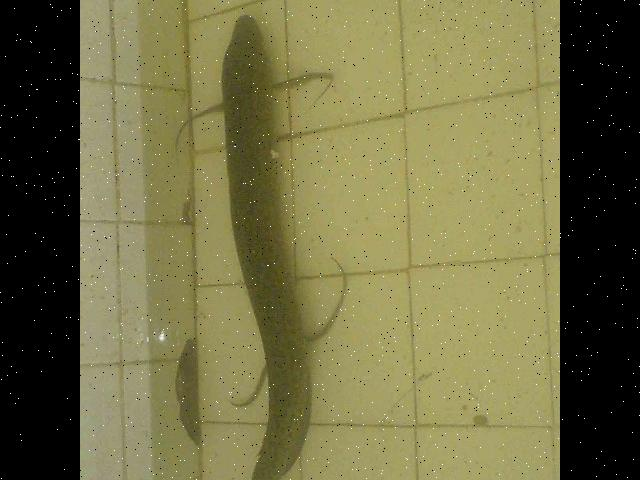Sirip Ekor: (222, 416, 334, 480)
